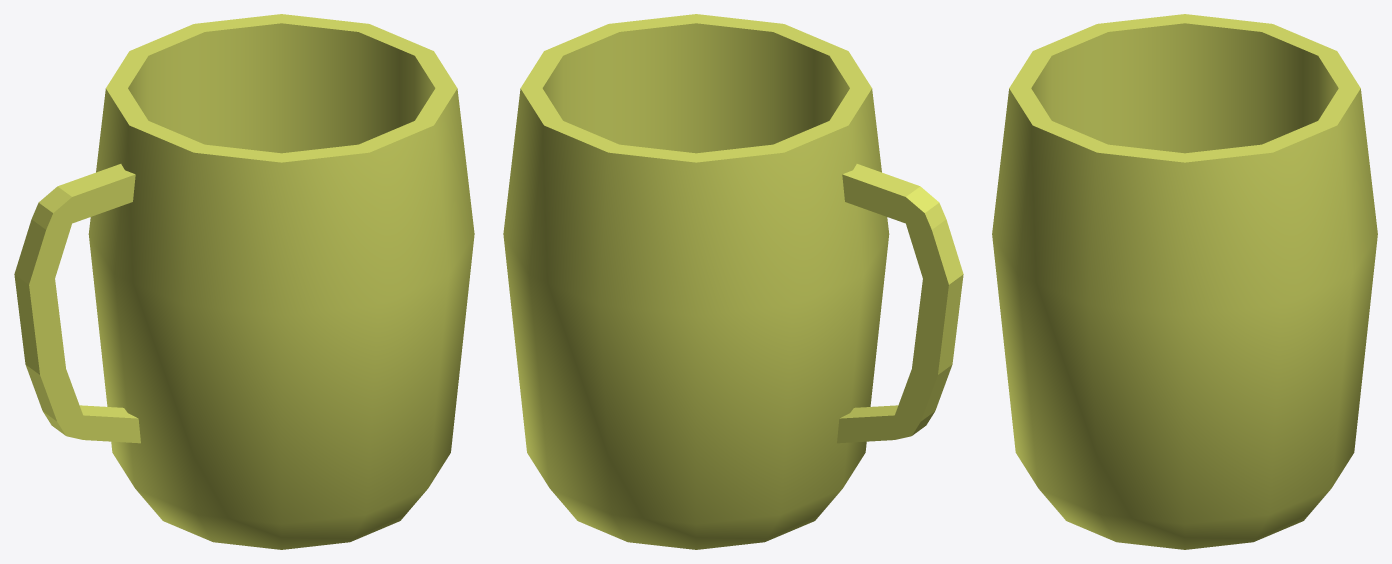
The model's file is Cup.fbx.
The picture shows the model from 3 angles, left to right: view 1: azimuth 30°, elevation 25°; view 2: azimuth 150°, elevation 25°; view 3: azimuth 270°, elevation 25°; orthographic projection.
Parts seen in each view (by area): view 1: Cup; view 2: Cup; view 3: Cup.
Boxes of the visible parts, bbox=[...] form: Cup: bbox=[14, 14, 474, 549]; Cup: bbox=[503, 14, 963, 549]; Cup: bbox=[992, 14, 1377, 549].
Bounding box in the file's own units: 21.03 × 19 × 16.46.
